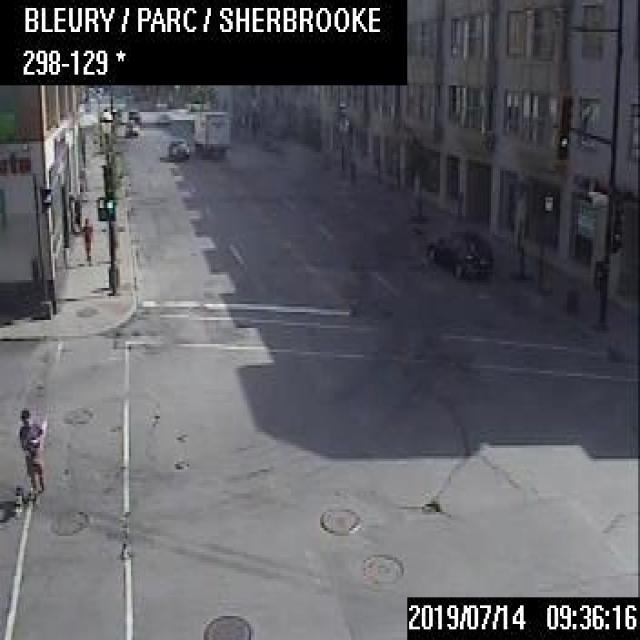pedestrian: (16, 408, 44, 499), (80, 214, 91, 261)
vehicle: (427, 228, 492, 276), (191, 107, 231, 156), (166, 137, 188, 157), (123, 118, 137, 134), (157, 110, 169, 122)
